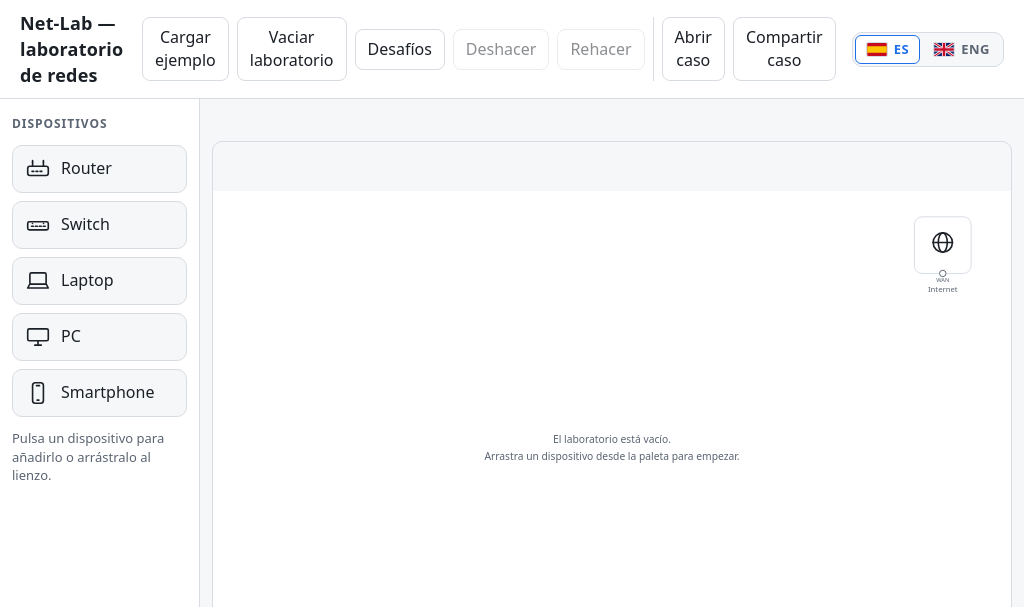
Test: the panel asks before it tells (S76, S77, S80) › shows the same truth after a miss, with feedback that says so
Click the button "Router" at (100, 169), box left=12, top=145, right=187, bottom=193
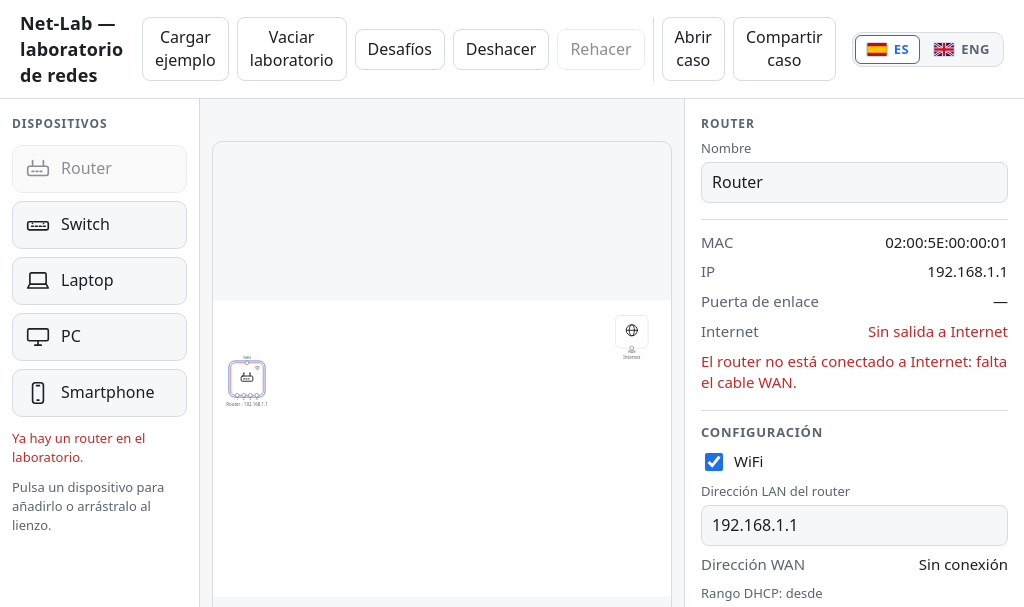
Click the button "Laptop" at (100, 281), box left=12, top=257, right=187, bottom=305
(page scrolled)
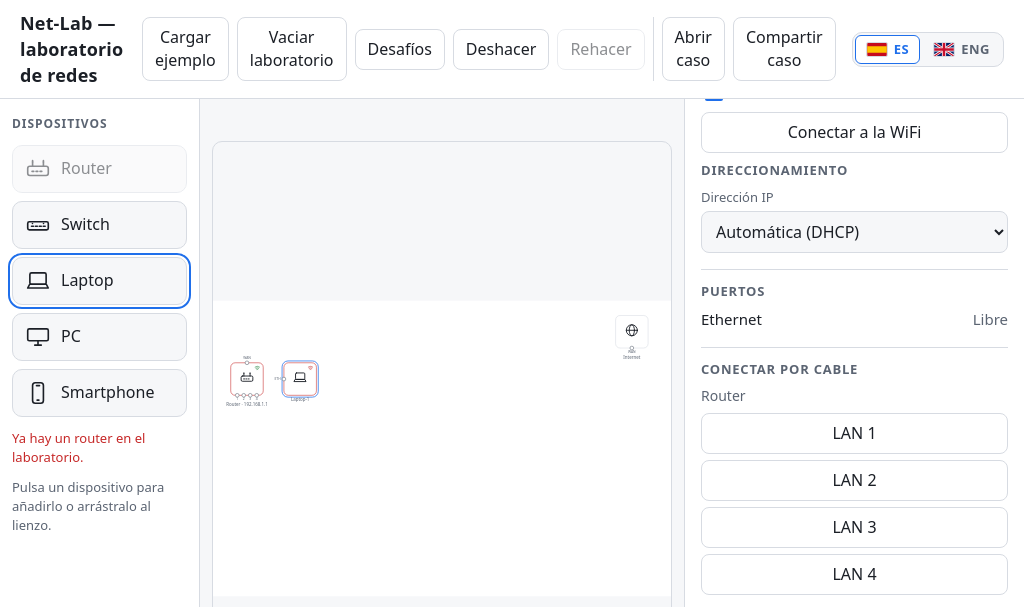
Click the button "LAN 1" at (854, 433), box left=701, top=413, right=1008, bottom=454
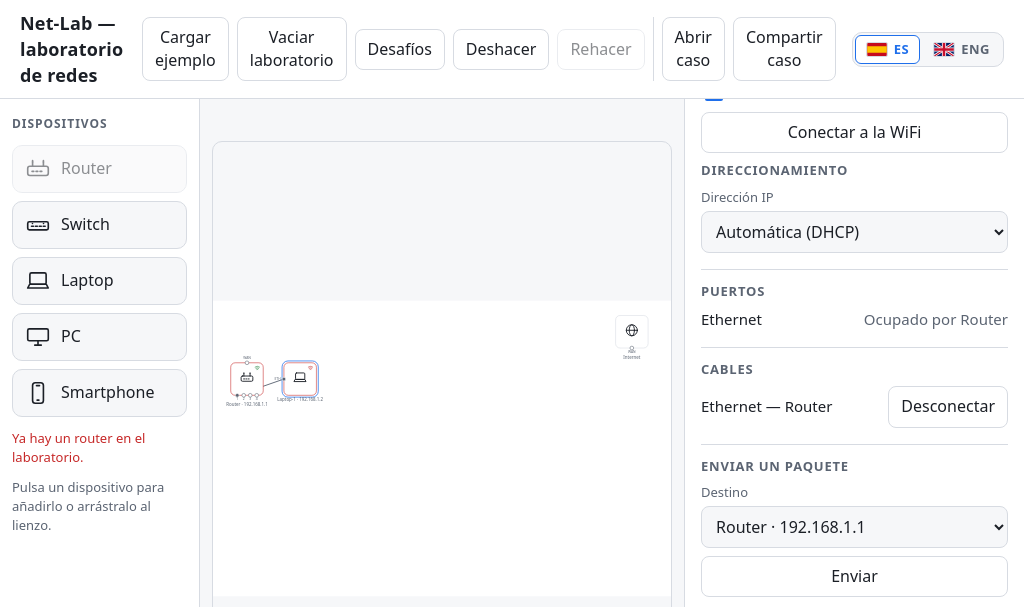
Select "Manual" in the dropdown labelled "Dirección IP" at (854, 232), box left=701, top=211, right=1008, bottom=253
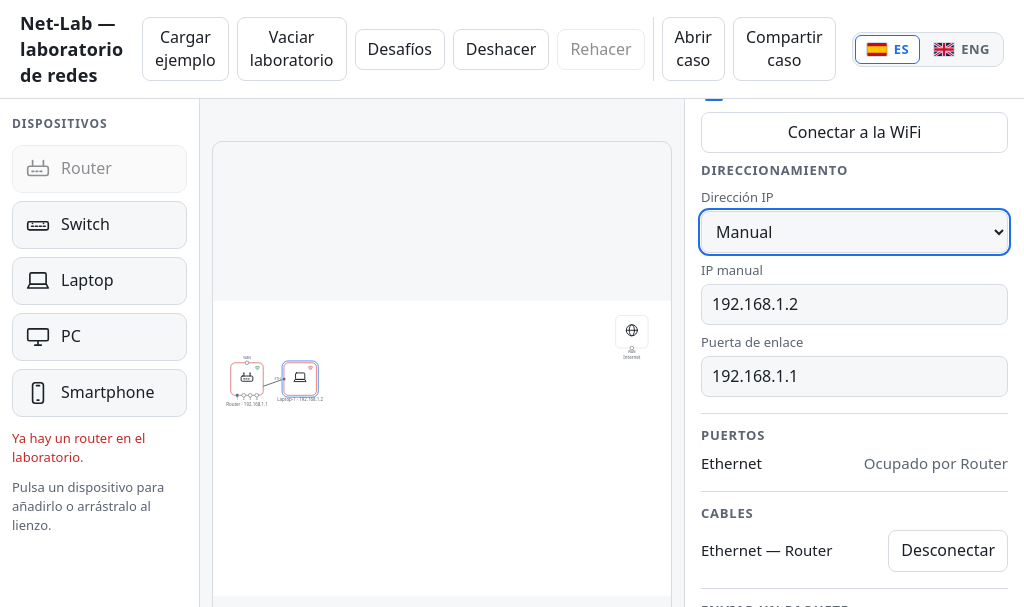
Replace the text in the field labelled "IP manual" with "10.0.0.5" at (854, 304), box left=701, top=284, right=1008, bottom=325
Then press Enter
(page scrolled)
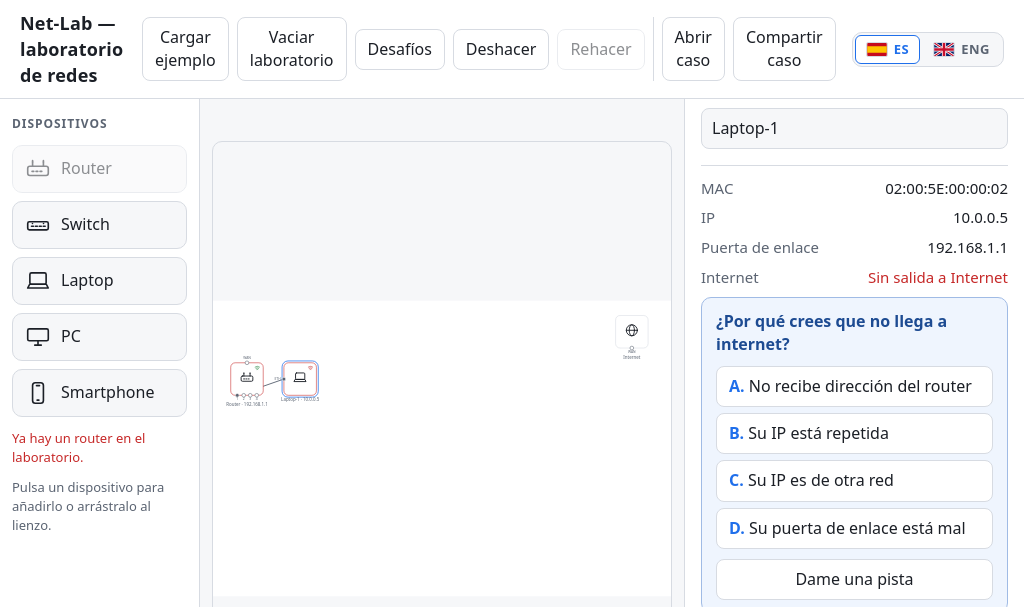
Click the button "Su IP está repetida" at (854, 434), box left=716, top=413, right=993, bottom=454
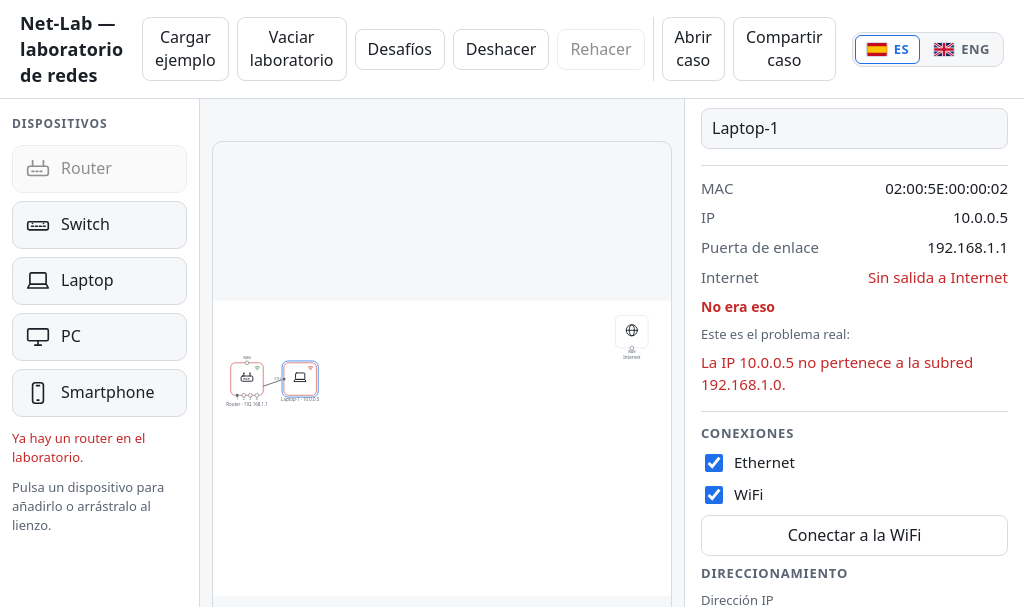
Expected: the message reads "No era eso", left=701, top=297, right=775, bottom=316
Expected: the text "Este es el problema real:" is shown, left=701, top=325, right=850, bottom=343
Expected: the text "La IP 10.0.0.5 no pertenece a la subred 192.168.1.0." is shown, left=701, top=352, right=1008, bottom=395
